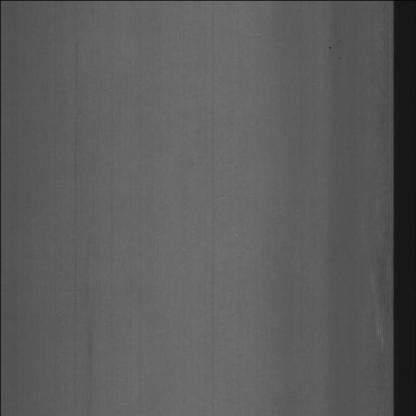inclusion: (326, 31, 342, 67)
water_spot: (363, 226, 390, 357)
